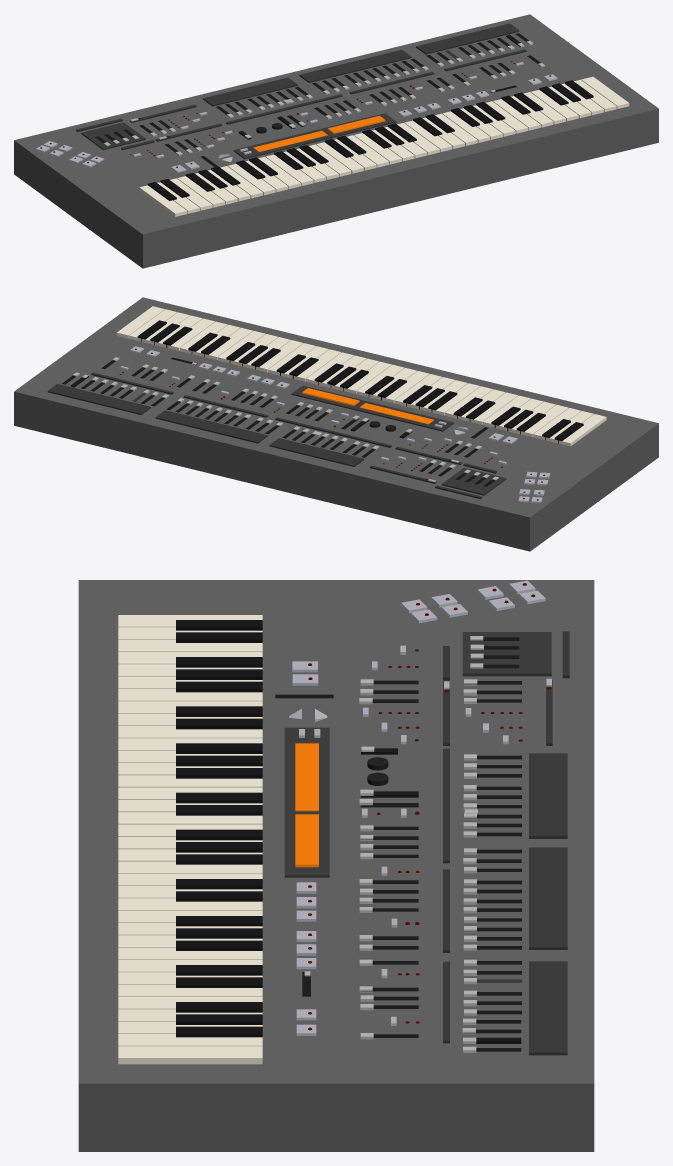
3 views of the same model, one above another, from view 1: azimuth 30°, elevation 25°; view 2: azimuth 150°, elevation 25°; view 3: azimuth 270°, elevation 25° (orthographic). The views are drawn at different scales.
Visible parts, largest first — view 1: synth_body.1, panel1.1, panel3, panel3.1, panel2, panel1, Key_C1, Key_C6, panel1.2, Key_F1, Key_F4, Key_F5 (+18 smaller); view 2: synth_body.1, panel1.1, panel3, panel3.1, panel2, panel1, Key_C1, Key_C6, panel1.2, Key_F1, Key_F4, Key_F5 (+18 smaller); view 3: synth_body.1, panel1.1, panel3, panel3.1, panel1, panel2, Key_C6, panel1.2, Key_B1, Key_B2, Key_E4, Key_E2 (+58 smaller).
Boxes of the visible parts, x1,y1,x2,y2 form: synth_body.1: [14, 14, 658, 268]; panel1.1: [233, 113, 396, 159]; panel3: [299, 50, 411, 82]; panel3.1: [416, 23, 519, 54]; panel2: [203, 77, 297, 106]; panel1: [81, 122, 145, 150]; Key_C1: [139, 185, 187, 216]; Key_C6: [581, 76, 629, 108]; panel1.2: [253, 131, 327, 151]; Key_F1: [177, 176, 225, 207]; Key_F4: [442, 111, 490, 142]; Key_F5: [530, 90, 578, 121]; synth_body.1: [14, 297, 658, 551]; panel1.1: [291, 385, 453, 431]; panel3: [155, 410, 267, 443]; panel3.1: [47, 384, 150, 414]; panel2: [269, 438, 363, 466]; panel1: [441, 468, 506, 495]; Key_C1: [558, 414, 606, 446]; Key_C6: [116, 306, 164, 338]; panel1.2: [360, 403, 433, 424]; Key_F1: [520, 405, 568, 437]; Key_F4: [255, 340, 303, 372]; Key_F5: [167, 318, 215, 350]; synth_body.1: [78, 580, 594, 1151]; panel1.1: [284, 727, 329, 877]; panel3: [529, 847, 567, 949]; panel3.1: [529, 961, 567, 1055]; panel1: [462, 632, 551, 676]; panel2: [529, 753, 567, 838]; Key_C6: [118, 1046, 262, 1064]; panel1.2: [295, 743, 318, 811]; Key_B1: [118, 689, 262, 701]; Key_B2: [118, 775, 262, 787]; Key_E4: [118, 898, 262, 910]; Key_E2: [118, 726, 262, 738].
Size of what is drawn, in the model's own units: 7.96 by 0.574 by 3.44.
